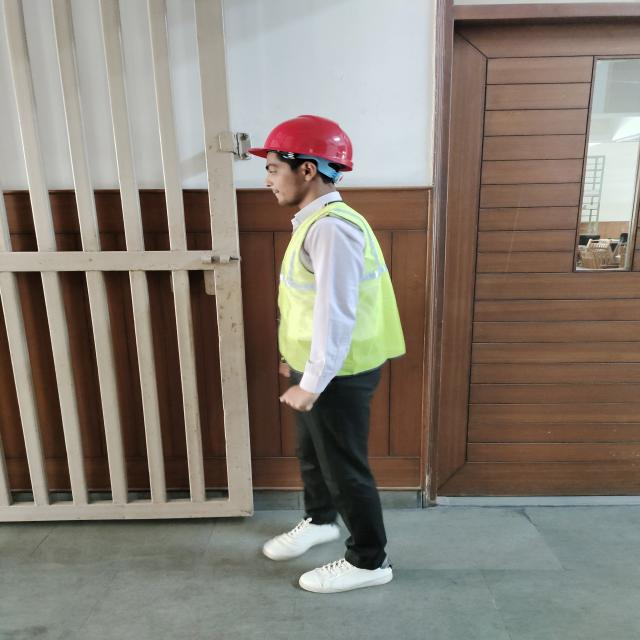safe: (248, 115, 406, 593)
